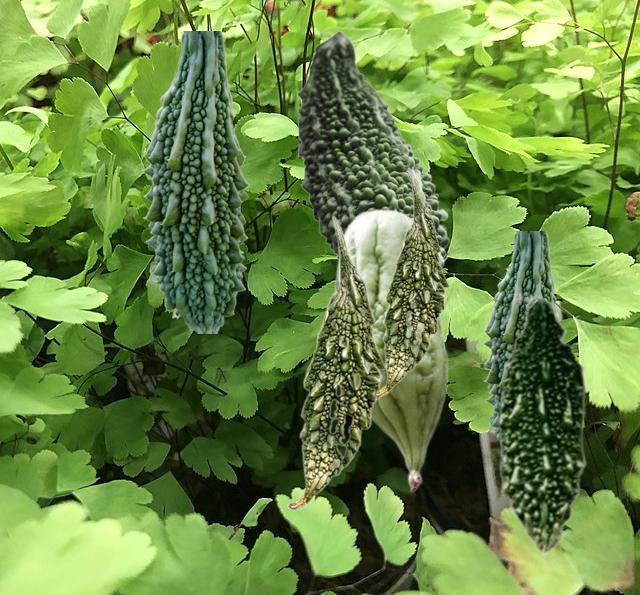ampalaya: (297, 30, 449, 270), (333, 208, 448, 491), (141, 31, 248, 332), (286, 214, 384, 509), (497, 291, 592, 556), (372, 166, 449, 396), (482, 231, 560, 440)
